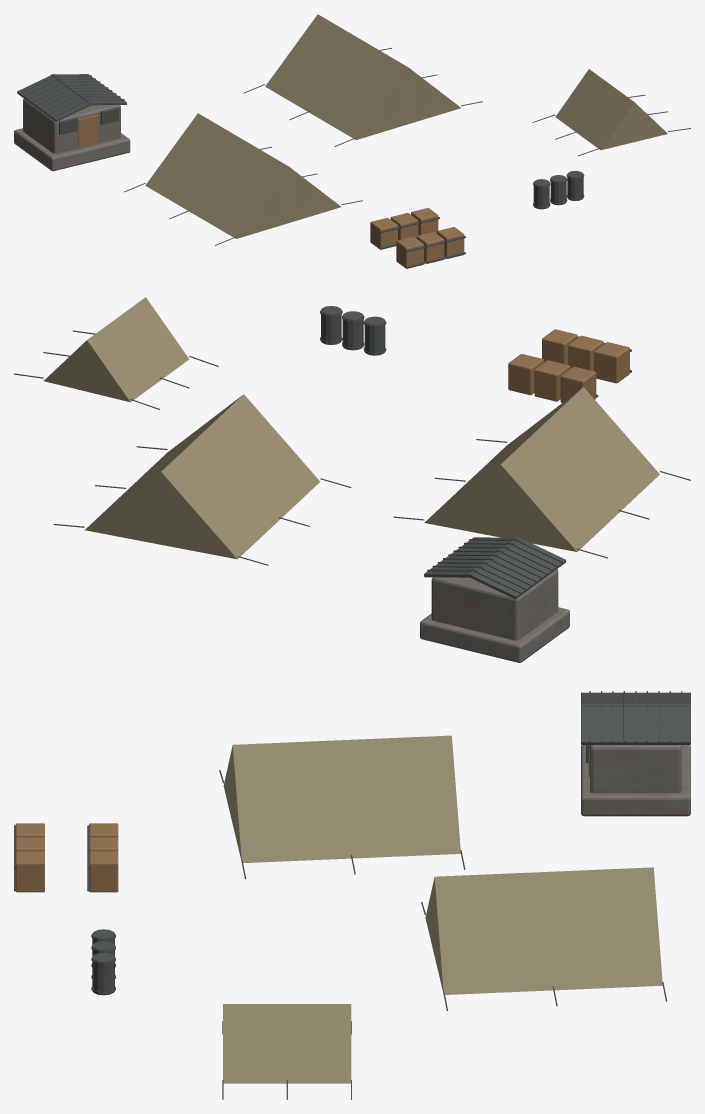
The model's file is cinder-lod0.glb.
3 views of the same model, one above another, from view 1: azimuth 30°, elevation 25°; view 2: azimuth 150°, elevation 25°; view 3: azimuth 270°, elevation 25° (orthographic). The views are drawn at different scales.
Visible parts, largest first — view 1: cinder_ridge_tent_1, cinder_ridge_tent_0, cinder_generator_shed_6, cinder_small_tent_2, cinder_crate_stack_4, cinder_crate_stack_3, cinder_drum_cluster_5; view 2: cinder_ridge_tent_1, cinder_ridge_tent_0, cinder_generator_shed_6, cinder_small_tent_2, cinder_crate_stack_3, cinder_crate_stack_4, cinder_drum_cluster_5; view 3: cinder_ridge_tent_0, cinder_ridge_tent_1, cinder_generator_shed_6, cinder_small_tent_2, cinder_crate_stack_3, cinder_crate_stack_4, cinder_drum_cluster_5.
Boxes of the visible parts, x1,y1,x2,y2 form: cinder_ridge_tent_1: (244, 14, 482, 146); cinder_ridge_tent_0: (124, 113, 362, 245); cinder_generator_shed_6: (14, 74, 130, 171); cinder_small_tent_2: (532, 69, 690, 156); cinder_crate_stack_4: (396, 227, 465, 268); cinder_crate_stack_3: (370, 208, 439, 249); cinder_drum_cluster_5: (533, 171, 584, 209); cinder_ridge_tent_1: (53, 394, 351, 565); cinder_ridge_tent_0: (393, 387, 690, 558); cinder_generator_shed_6: (420, 537, 569, 662); cinder_small_tent_2: (14, 297, 218, 409); cinder_crate_stack_3: (508, 354, 598, 402); cinder_crate_stack_4: (542, 329, 631, 383); cinder_drum_cluster_5: (320, 306, 386, 355); cinder_ridge_tent_0: (219, 735, 465, 878); cinder_ridge_tent_1: (421, 867, 667, 1010); cinder_generator_shed_6: (581, 691, 690, 816); cinder_small_tent_2: (222, 1004, 351, 1099); cinder_crate_stack_3: (87, 823, 118, 892); cinder_crate_stack_4: (14, 823, 44, 892); cinder_drum_cluster_5: (91, 929, 115, 995).
Bounding box in the file's own units: 45.5 × 5.8 × 36.89.
4 materials, 4 textured.
